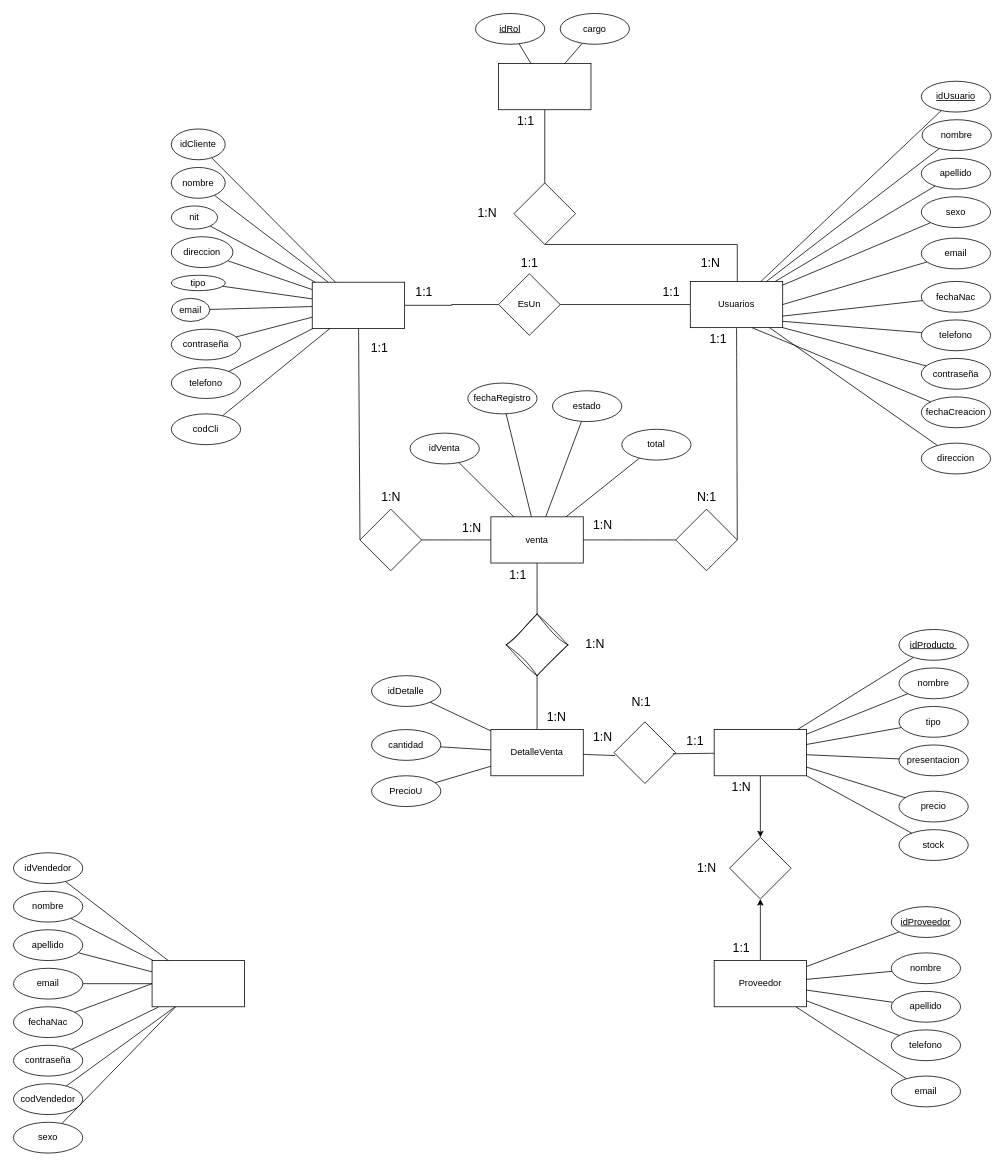
Some shapes in this 1005 by 1167 pixel diagram are drawn without their labels. Each missing label, with the centre of its shape:
atiende: the point at 706,539
Cliente: the point at 358,304
contiene: the point at 644,752
pertenece: the point at 544,213
Producto: the point at 760,752
provee: the point at 760,868
realiza: the point at 390,539
rol: the point at 544,86
tiene: the point at 537,644
Vendedor: the point at 197,983
